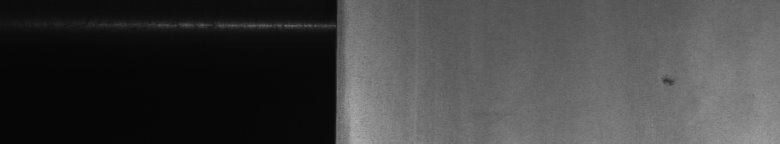fi: (658, 68, 676, 92)
